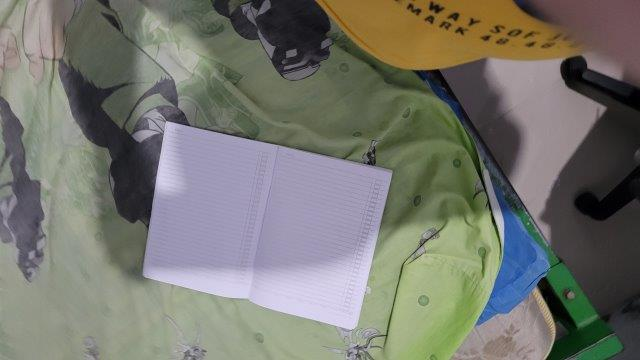kertas: (141, 121, 394, 330)
